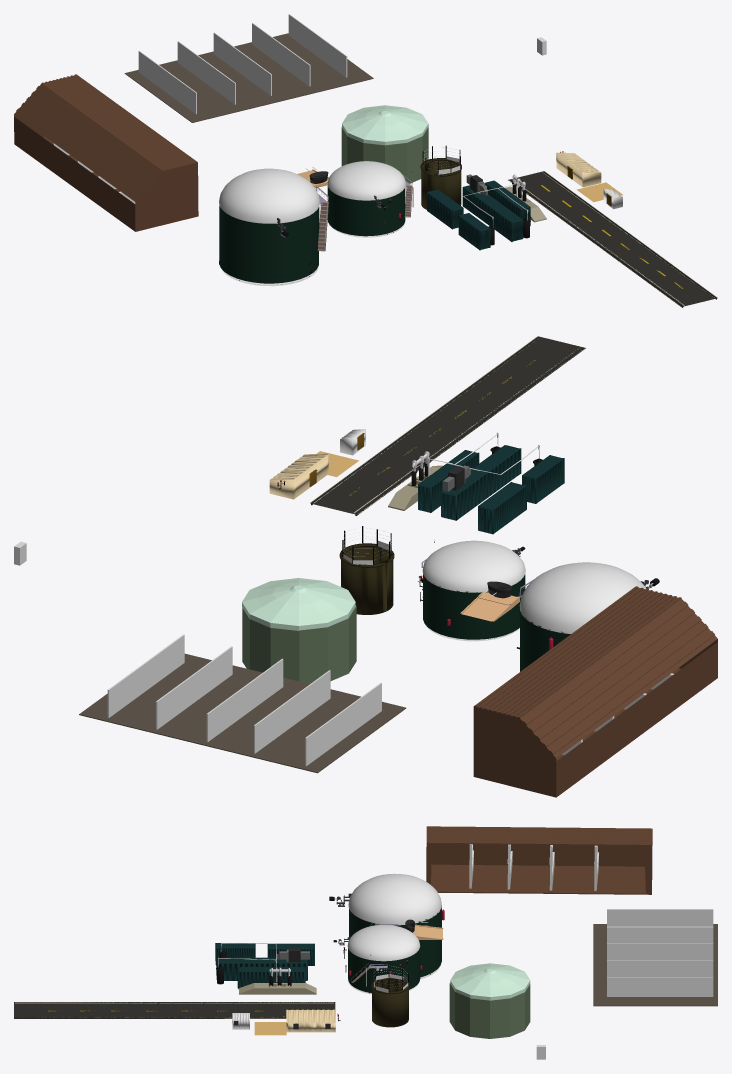
File: biogasplantmodel_mod.glb
The picture shows the model from 3 angles, top to bottom: view 1: azimuth 30°, elevation 25°; view 2: azimuth 150°, elevation 25°; view 3: azimuth 270°, elevation 25°; orthographic projection. The views are drawn at different scales.
Parts seen in each view (by area): view 1: Cube.050, Plane, Plane.003, Cylinder, Sphere, Cylinder.036, Cylinder.073, Sphere.015, Cylinder.072, Cube.061, Cylinder.074, Cube.017 (+8 smaller); view 2: Cube.050, Plane, Plane.003, Cylinder.072, Sphere, Cylinder.073, Sphere.015, Cylinder.036, Cylinder.074, Cube.061, Cube.017, Cube.013 (+9 smaller); view 3: Cube.050, Plane.003, Sphere, Cylinder.072, Plane, Cylinder.073, Cube.017, Sphere.015, Cube.006, Cube.013, Cube.014, Cube.008 (+11 smaller).
Part boxes in pixels (x1=…): Cube.050: x1=14, y1=74, x2=198, y2=231; Plane: x1=124, y1=33, x2=373, y2=122; Plane.003: x1=508, y1=171, x2=717, y2=307; Cylinder: x1=219, y1=206, x2=319, y2=283; Sphere: x1=219, y1=168, x2=319, y2=223; Cylinder.036: x1=327, y1=186, x2=405, y2=236; Cylinder.073: x1=342, y1=105, x2=428, y2=145; Sphere.015: x1=327, y1=161, x2=405, y2=200; Cylinder.072: x1=341, y1=127, x2=428, y2=183; Cube.061: x1=462, y1=185, x2=523, y2=241; Cylinder.074: x1=420, y1=158, x2=461, y2=209; Cube.017: x1=288, y1=14, x2=347, y2=77; Cube.050: x1=473, y1=586, x2=717, y2=797; Plane: x1=79, y1=653, x2=406, y2=773; Plane.003: x1=310, y1=336, x2=585, y2=515; Cylinder.072: x1=242, y1=605, x2=356, y2=683; Sphere: x1=519, y1=562, x2=646, y2=633; Cylinder.073: x1=242, y1=578, x2=355, y2=630; Sphere.015: x1=422, y1=540, x2=525, y2=592; Cylinder.036: x1=423, y1=574, x2=525, y2=639; Cylinder.074: x1=339, y1=543, x2=394, y2=614; Cube.061: x1=441, y1=445, x2=521, y2=520; Cube.017: x1=107, y1=634, x2=184, y2=717; Cube.013: x1=206, y1=658, x2=283, y2=741; Cube.050: x1=426, y1=826, x2=652, y2=894; Plane.003: x1=14, y1=1002, x2=335, y2=1018; Sphere: x1=348, y1=873, x2=441, y2=925; Cylinder.072: x1=449, y1=983, x2=530, y2=1038; Plane: x1=593, y1=924, x2=717, y2=1006; Cylinder.073: x1=450, y1=963, x2=530, y2=1000; Cube.017: x1=607, y1=977, x2=713, y2=996; Sphere.015: x1=347, y1=924, x2=420, y2=961; Cube.006: x1=607, y1=909, x2=713, y2=926; Cube.013: x1=607, y1=943, x2=713, y2=960; Cube.014: x1=607, y1=960, x2=713, y2=976; Cube.008: x1=607, y1=926, x2=713, y2=942.
Size of the model in its own units: 221 by 46.84 by 310.
57 materials, 2 textured.
